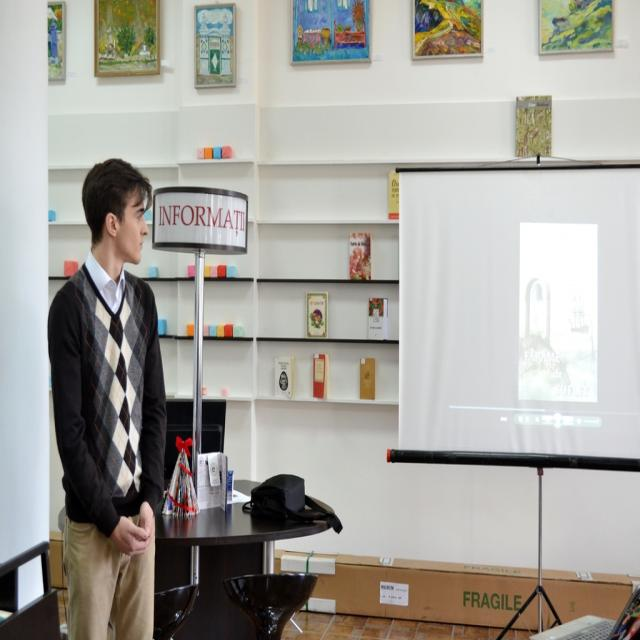chair: (221, 573, 319, 637), (153, 582, 199, 638)
desk: (142, 465, 354, 632)
person: (48, 158, 166, 634)
